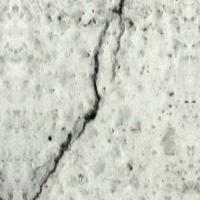crack: (26, 2, 141, 199)
